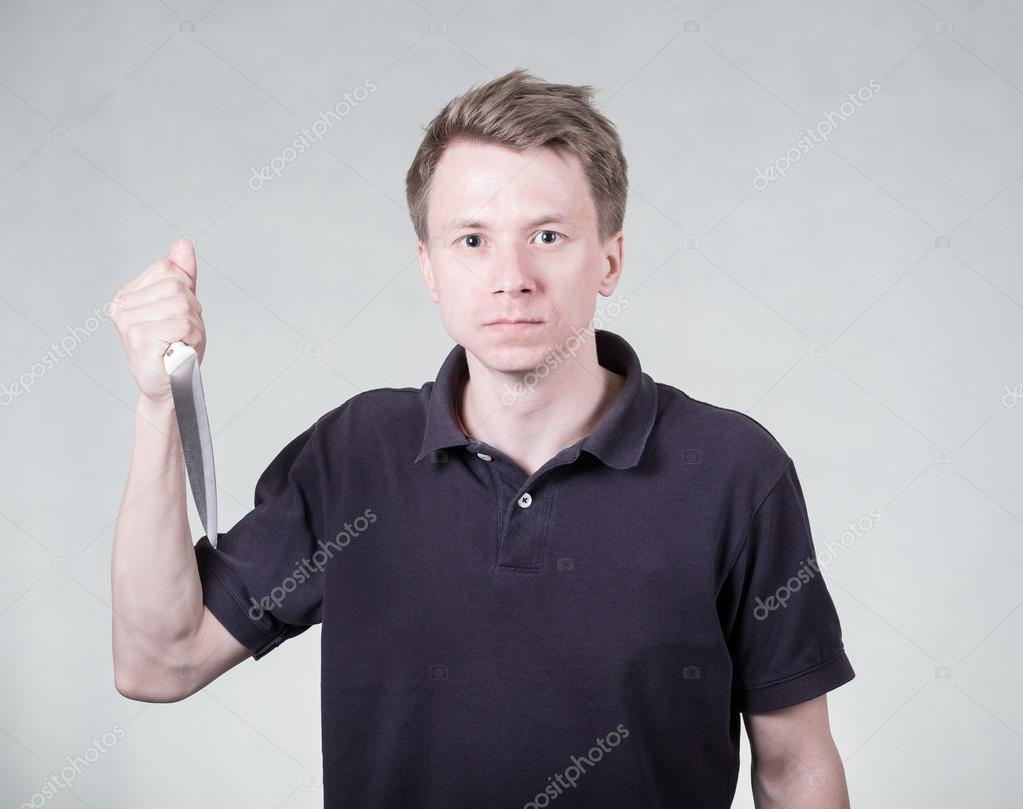Knife: (110, 70, 859, 809), (113, 242, 208, 398), (163, 347, 221, 551)
